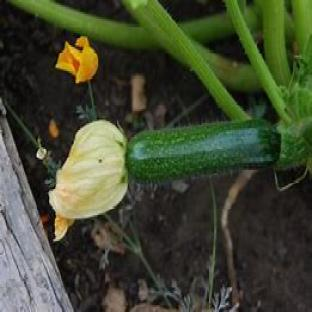Zucchini: (126, 120, 280, 182)
